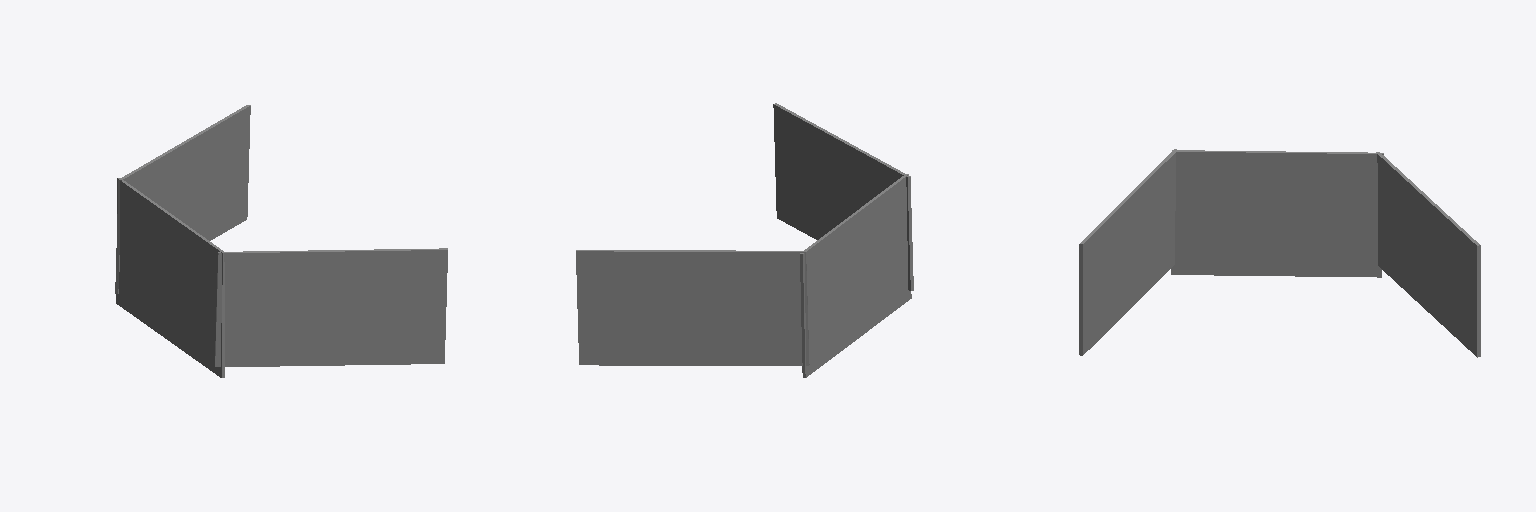
Rendered from backStudio2.obj.
3 renders of one model, left to right at view 1: azimuth 30°, elevation 25°; view 2: azimuth 150°, elevation 25°; view 3: azimuth 270°, elevation 25°, orthographic.
Visible parts, largest first — view 1: 2DBox.003; view 2: 2DBox.003; view 3: 2DBox.003.
Part boxes in pixels (left/top/right/bottom): 2DBox.003: left=115, top=105, right=447, bottom=377; 2DBox.003: left=576, top=103, right=913, bottom=377; 2DBox.003: left=1079, top=149, right=1480, bottom=357.
Bounding box in the file's own units: 56.62 × 36.74 × 105.